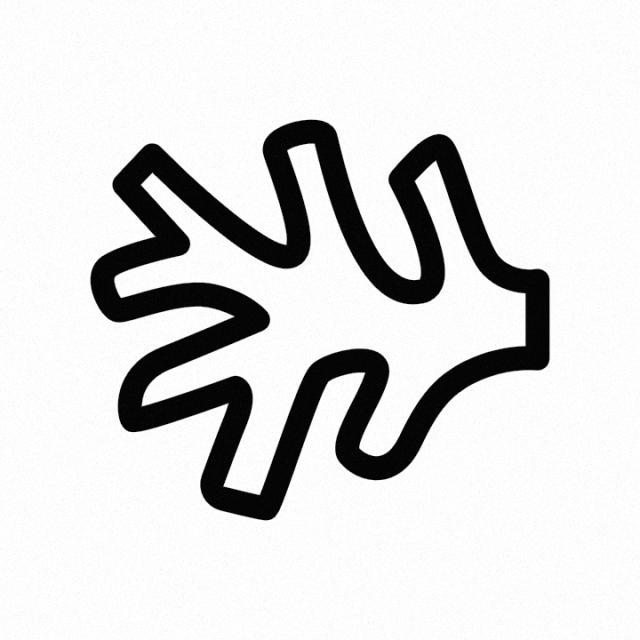coral: (77, 114, 556, 533)
